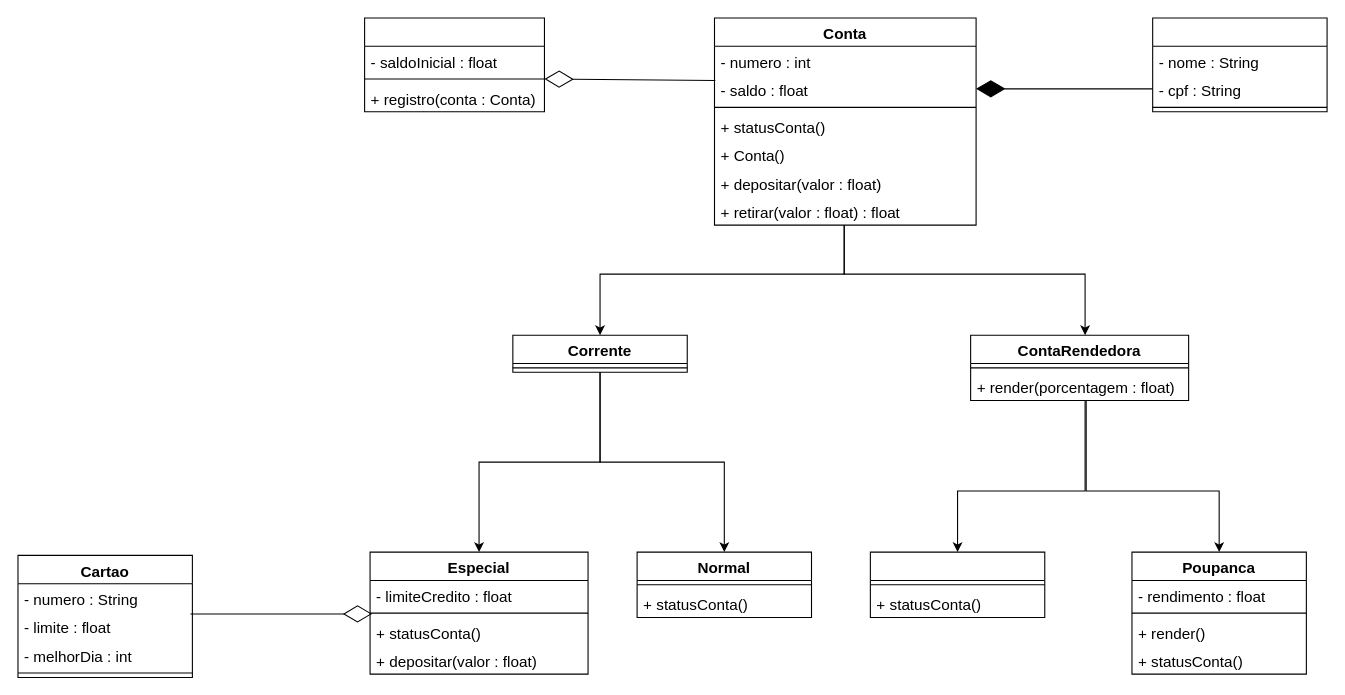
The diagram is 1345 pixels wide and 695 high, and some of its shapes have lost their labels. Each missing label, with the box of its shape:
Aplicacao: (869, 551, 1045, 617)
ControleContas: (364, 17, 544, 112)
Correntista: (1152, 17, 1327, 112)
